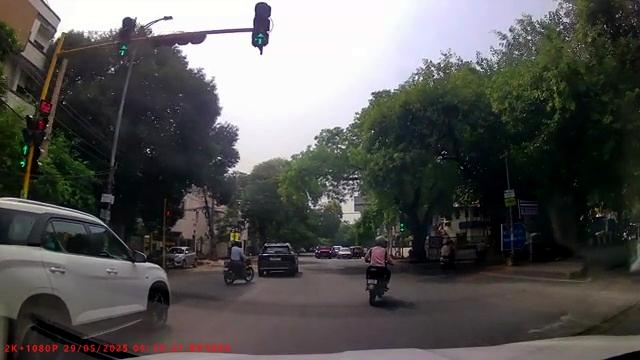motorcycle_with_helmet: (363, 235, 392, 307), (222, 239, 256, 286)
